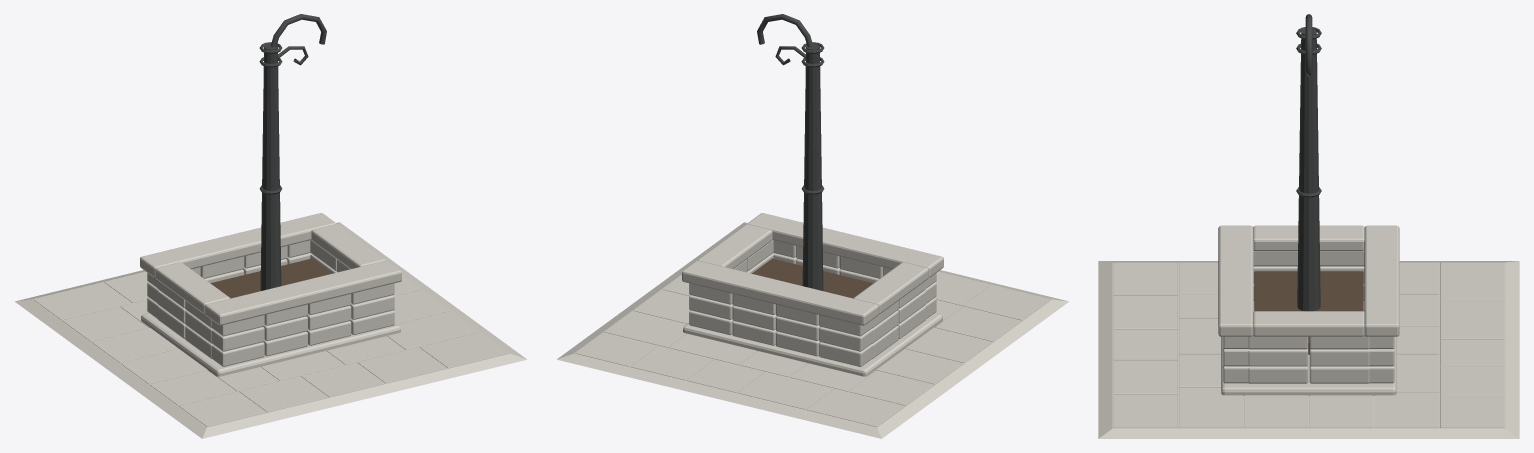
Rendered from CityStreetKit.glb.
The picture shows the model from 3 angles, left to right: view 1: azimuth 30°, elevation 25°; view 2: azimuth 150°, elevation 25°; view 3: azimuth 270°, elevation 25°; orthographic projection. The views are drawn at different scales.
Parts seen in each view (by area): view 1: PavingPanel, StonePlanter, LanternPost; view 2: PavingPanel, StonePlanter, LanternPost; view 3: PavingPanel, StonePlanter, LanternPost.
Part boxes in pixels (x1,y1,x2,y2): PavingPanel: (15, 222, 526, 438); StonePlanter: (140, 213, 401, 376); LanternPost: (259, 14, 326, 290); PavingPanel: (557, 222, 1068, 438); StonePlanter: (682, 213, 943, 376); LanternPost: (757, 14, 824, 290); PavingPanel: (1098, 261, 1519, 438); StonePlanter: (1218, 225, 1399, 395); LanternPost: (1296, 14, 1321, 311).
Size of the model in its own units: 3 by 2.72 by 3.
